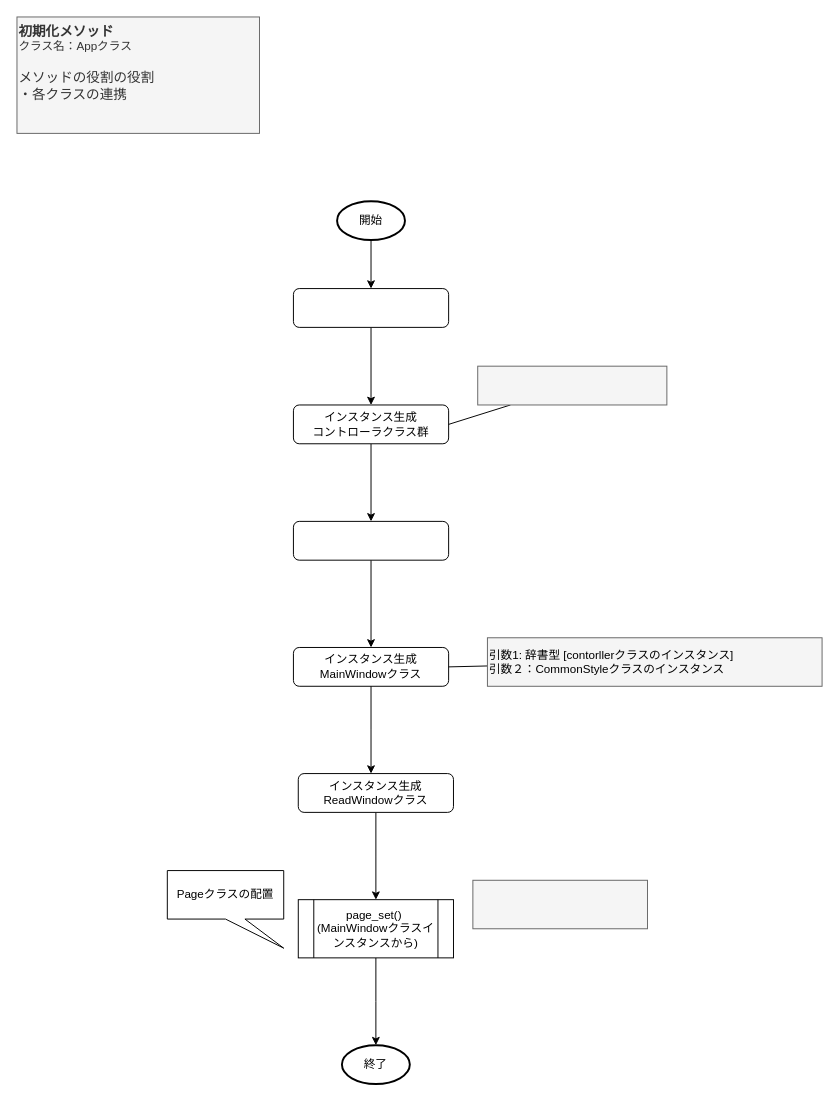
The diagram is 839 pixels wide and 1102 high, and some of its shapes have lost their labels. Here are the shapes that lost their labels. From the top down, the centre of each, then its label:
At (370,307): "インスタンス生成 モデルクラス群".
At (572,385): "引数について 連携に必要なモデルクラスを渡す".
At (370,540): "インスタンス生成 Common Styleクラス".
At (559,904): "引数1: MainWindowで管理するPageクラス配列".
